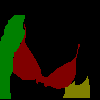abbigliamento: (0, 15, 25, 99), (62, 75, 90, 98)
reggiseno: (12, 16, 80, 89)
